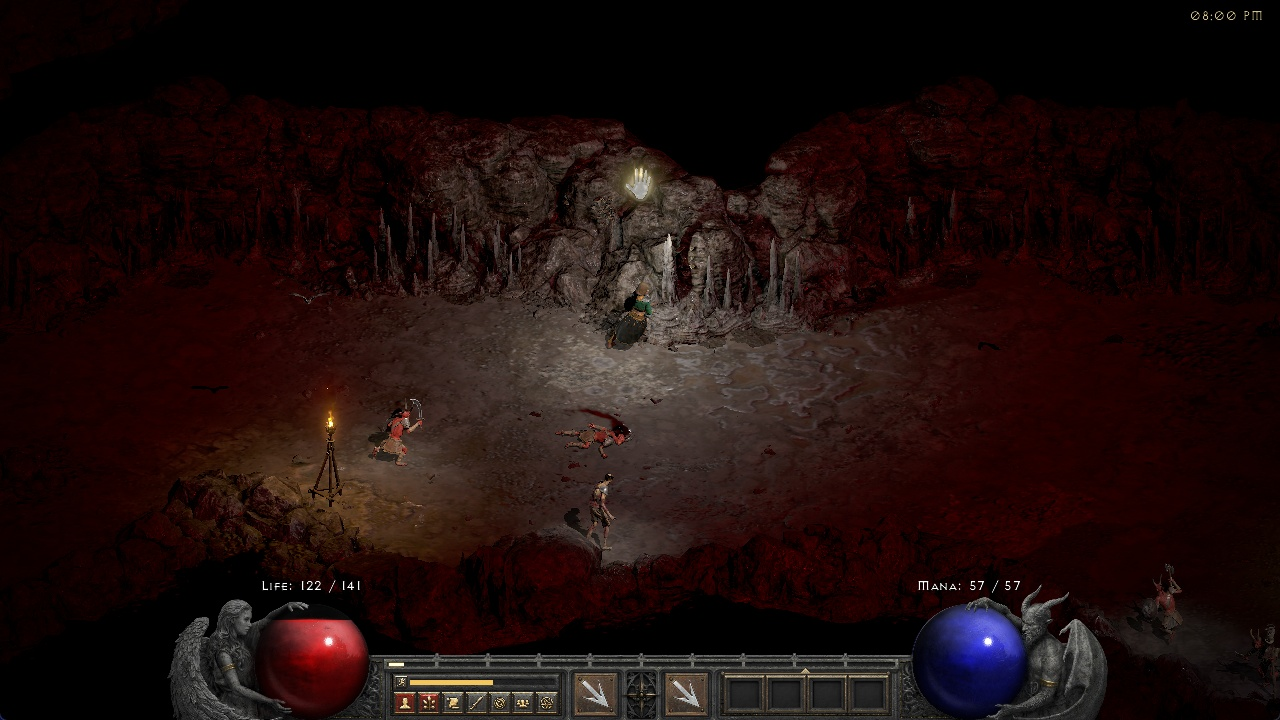fallen: (1135, 565, 1188, 643), (375, 396, 423, 465)
